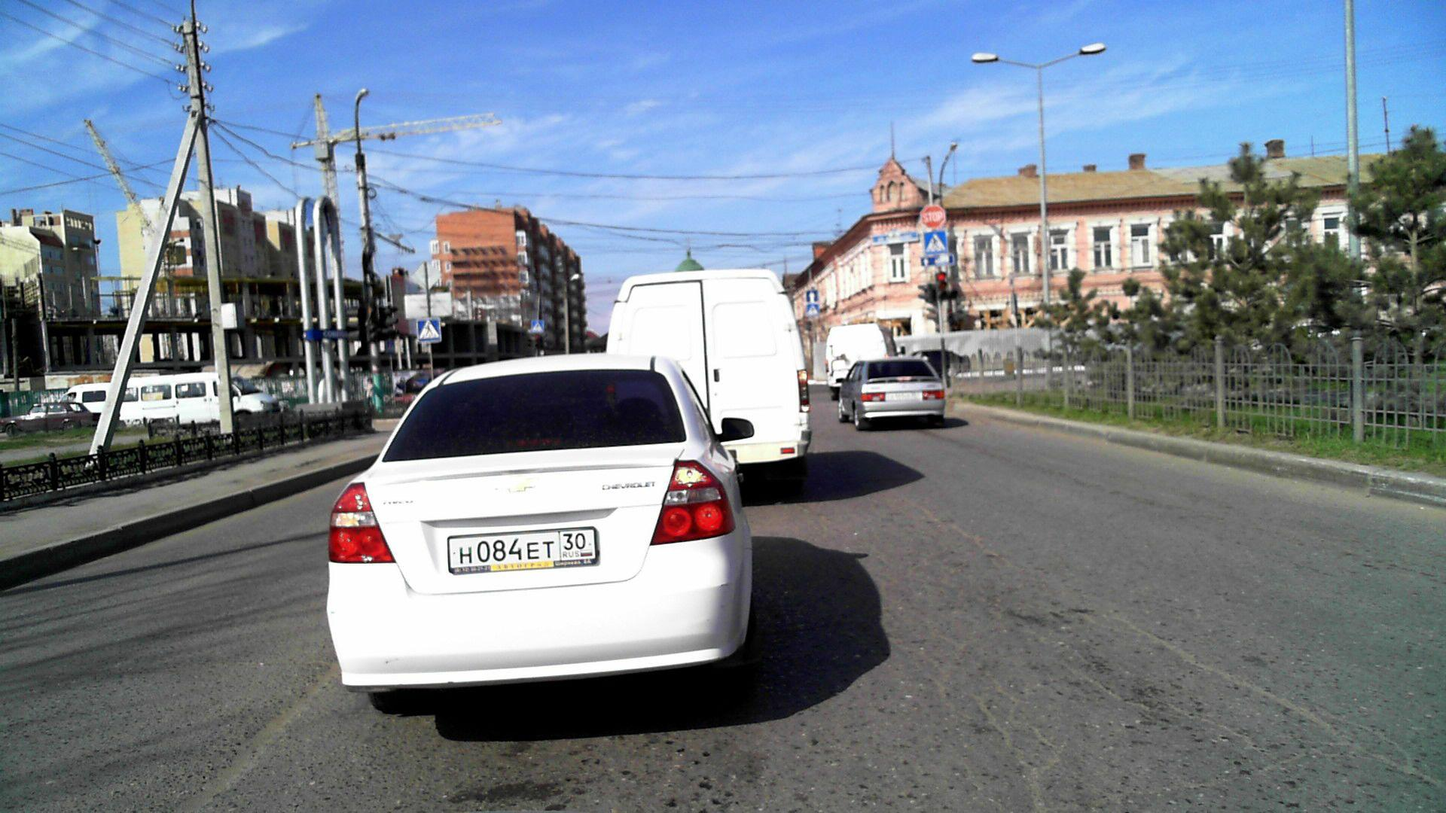off traffic light: (916, 282, 933, 304)
road_sign: (417, 317, 444, 345), (921, 204, 947, 230), (924, 230, 948, 255)
traffic light: (933, 273, 949, 299)
